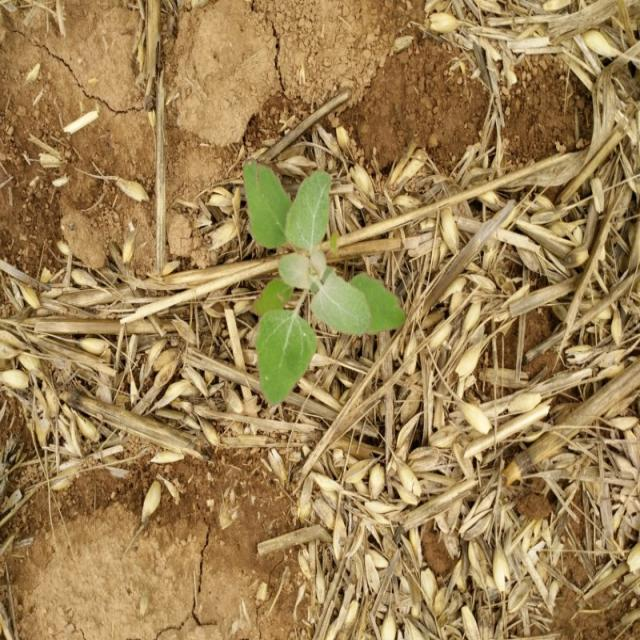ca: (242, 159, 404, 408)
